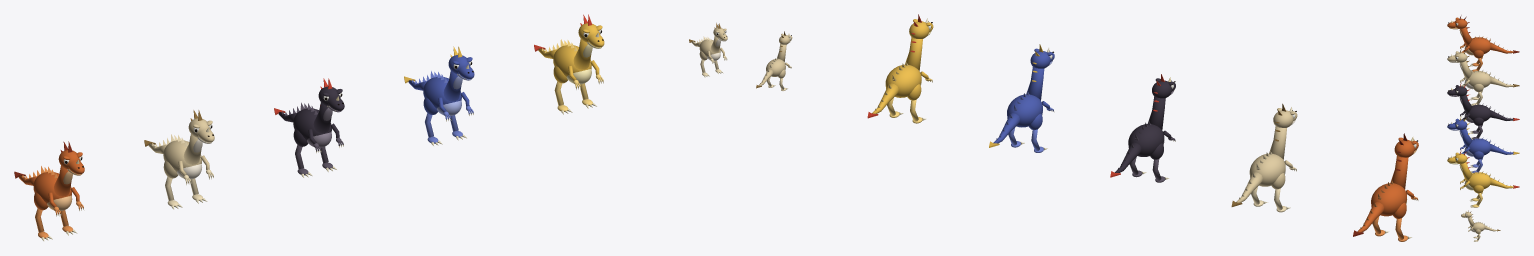
Rendered from dragodindes.glb.
3 views of the same model, side by side, from view 1: azimuth 30°, elevation 25°; view 2: azimuth 150°, elevation 25°; view 3: azimuth 270°, elevation 25° (orthographic). The views are drawn at different scales.
Visible parts, largest first — view 1: corps.002, corps, corps.004, corps.003, corps.001; view 2: corps.001, corps.004, corps.002, corps, corps.003, cou.003, cou.002, cou, cou.001, cou.004; view 3: corps.004, corps.002, corps.003, corps, corps.001, cou.001, cou.002, cou.004, cou.003, cou, queue.001, queue.003 (+14 smaller).
Boxes of the visible parts, x1,y1,x2,y2 form: corps.002: [293, 108, 331, 140]; corps: [33, 172, 71, 203]; corps.004: [553, 45, 591, 76]; corps.003: [423, 77, 461, 108]; corps.001: [163, 140, 201, 171]; corps.001: [1249, 153, 1285, 186]; corps.004: [885, 64, 921, 97]; corps.002: [1128, 124, 1164, 156]; corps: [1371, 183, 1406, 216]; corps.003: [1007, 94, 1042, 127]; cou.003: [1026, 67, 1044, 100]; cou.002: [1147, 96, 1165, 129]; cou: [1390, 156, 1408, 189]; cou.001: [1269, 126, 1286, 159]; cou.004: [905, 37, 922, 70]; corps.004: [1466, 172, 1490, 188]; corps.002: [1466, 104, 1490, 121]; corps.003: [1466, 138, 1490, 155]; corps: [1466, 37, 1490, 53]; corps.001: [1466, 71, 1490, 87]; cou.001: [1460, 60, 1472, 79]; cou.002: [1460, 94, 1472, 113]; cou.004: [1460, 162, 1472, 180]; cou.003: [1460, 128, 1472, 146]; cou: [1460, 27, 1472, 45]; queue.001: [1490, 76, 1513, 87]; queue.003: [1490, 144, 1513, 154].
Size of the model in its own units: 18.94 by 2.74 by 3.27.
